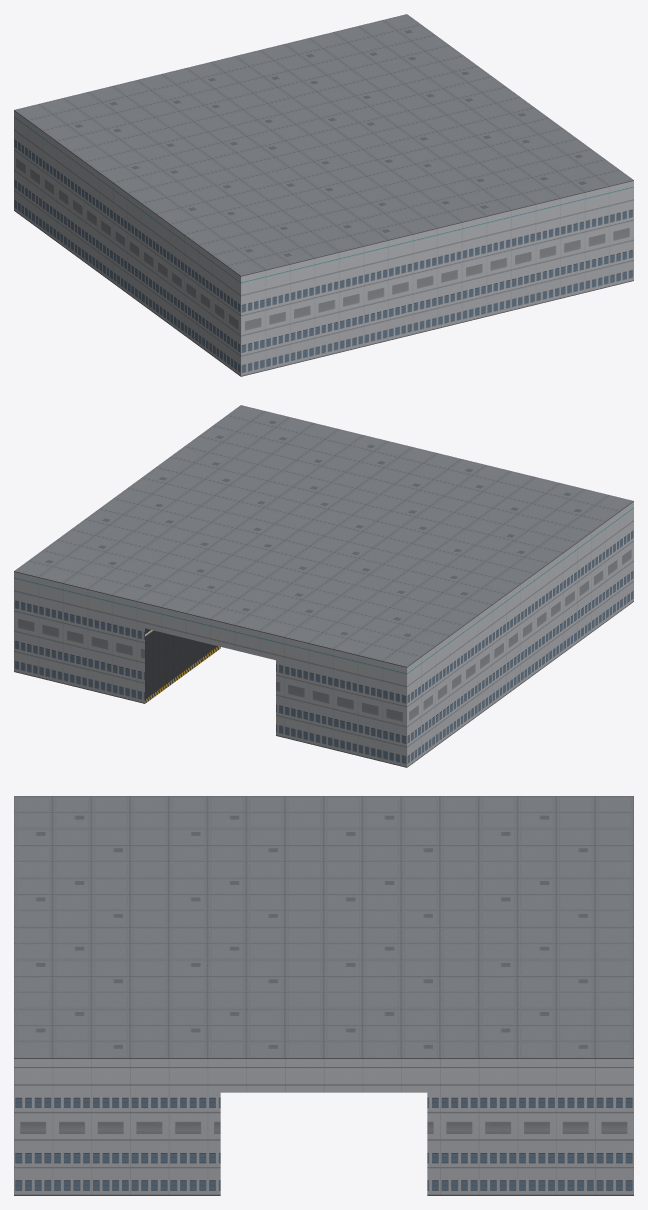
File: BLD_POD_Gate_L.fbx
3 views of the same model, one above another, from view 1: azimuth 30°, elevation 25°; view 2: azimuth 150°, elevation 25°; view 3: azimuth 270°, elevation 25° (orthographic). The views are drawn at different scales.
Parts seen in each view (by area): view 1: BLD_POD_Gate_L; view 2: BLD_POD_Gate_L; view 3: BLD_POD_Gate_L.
Part boxes in pixels (x1,y1,x2,y2): BLD_POD_Gate_L: [14, 14, 633, 376]; BLD_POD_Gate_L: [14, 405, 633, 767]; BLD_POD_Gate_L: [14, 796, 633, 1195].
Size of the model in its own units: 100 by 24.5 by 100.
